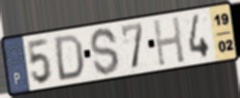4: (188, 12, 212, 60)
5: (24, 35, 55, 86)
7: (119, 21, 146, 72)
D: (54, 33, 85, 83)
H: (151, 14, 187, 68)
S: (88, 26, 121, 77)
